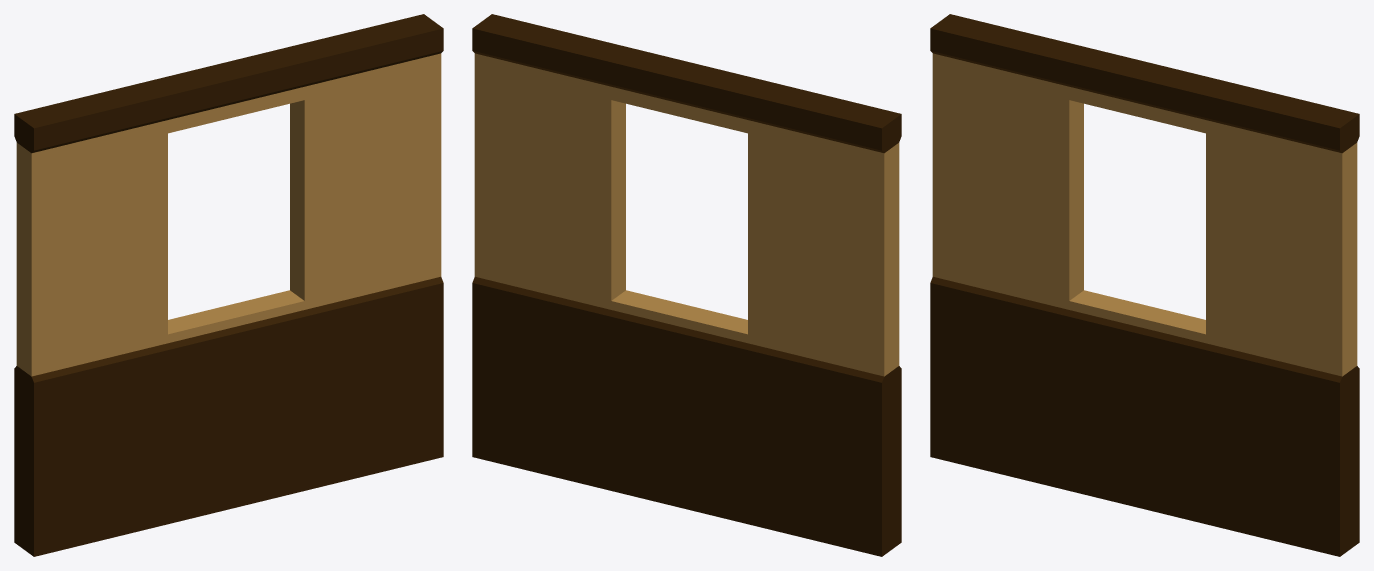
File: Classic_WallWindowFrame_01_snaps001.fbx
The picture shows the model from 3 angles, left to right: view 1: azimuth 30°, elevation 25°; view 2: azimuth 150°, elevation 25°; view 3: azimuth 330°, elevation 25°; orthographic projection.
Visible parts, largest first — view 1: Classic_WallWindowFrame_01_snaps001; view 2: Classic_WallWindowFrame_01_snaps001; view 3: Classic_WallWindowFrame_01_snaps001.
Part boxes in pixels (x1,y1,x2,y2): Classic_WallWindowFrame_01_snaps001: (14,14,443,556); Classic_WallWindowFrame_01_snaps001: (472,14,901,556); Classic_WallWindowFrame_01_snaps001: (930,14,1359,556).
Size of the model in its own units: 300 by 300 by 25.
